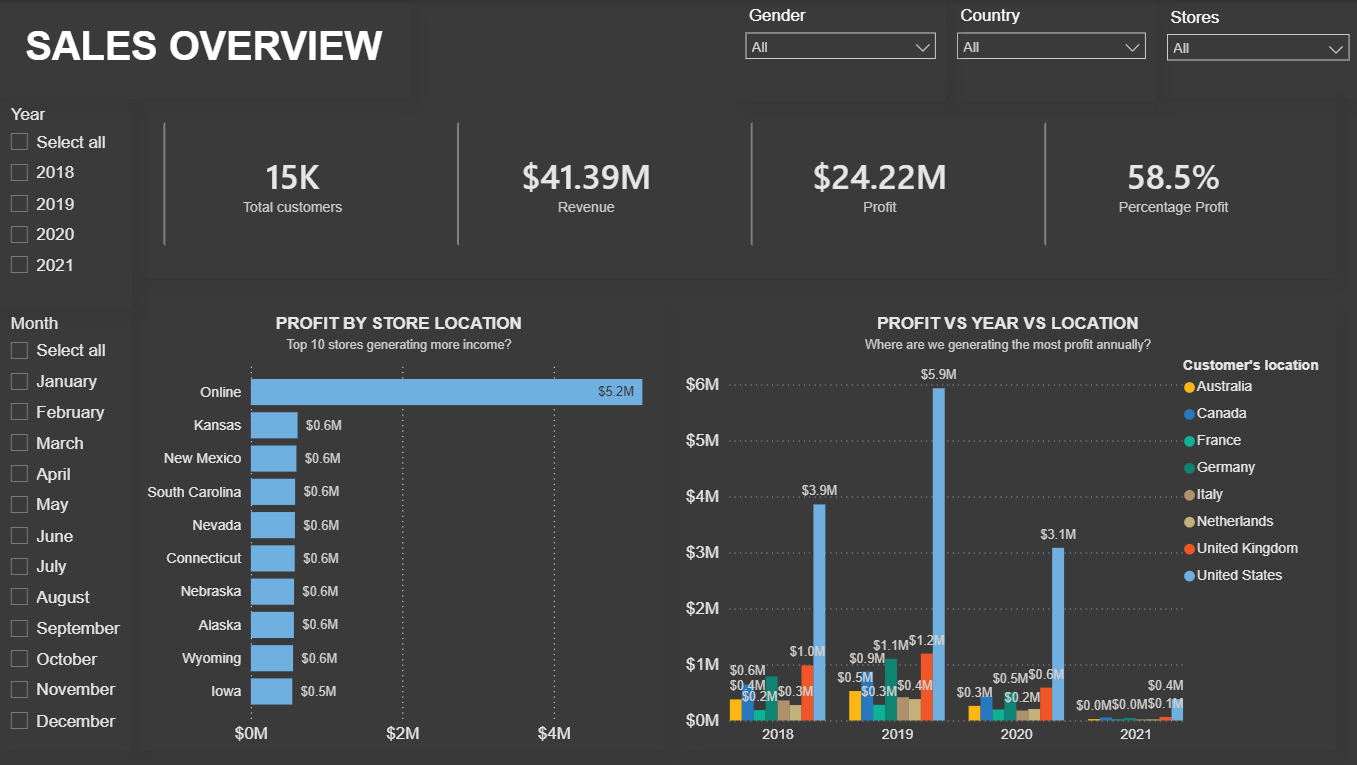

The dashboard page shown, as its layout file describes it:
{"tool":"powerbi","page":{"name":"OVERVIEW","canvas":[1280,720],"ordinal":0},"visuals":[{"type":"slicer","fields":{"Values":["Customers.Country"]},"box":[892.1,0,197.4,94.7],"z":1000,"group":"g1"},{"type":"slicer","fields":{"Values":["Sales.Order Date.Variation.Date Hierarchy.Year"]},"box":[0,93.6,127.5,197.2],"z":3000,"group":"g1"},{"type":"slicer","fields":{"Values":["Sales.Order Date.Variation.Date Hierarchy.Month"]},"box":[0,289.2,125.7,416.4],"z":5000,"group":"g1"},{"type":"slicer","fields":{"Values":["Stores.State"]},"box":[1089.5,1.6,191.1,91.6],"z":8000,"group":"g1"},{"type":"cardVisual","fields":{"Data":["_Measures.Total customers","_Measures.Revenue","_Measures.profit","_Measures.% profit"]},"box":[126.3,85.3,1132.1,176.8],"z":13000},{"type":"clusteredColumnChart","title":"PROFIT VS YEAR VS LOCATION","fields":{"Series":["Customers.Country"],"Y":["_Measures.profit"],"Category":["Sales.Order Date.Variation.Date Hierarchy.Year"]},"box":[641.1,289,617.4,416.8],"z":14000},{"type":"barChart","title":"PROFIT BY STORE LOCATION","fields":{"Y":["_Measures.profit"],"Category":["Inland stores.State"]},"box":[127.9,289,499,416.8],"z":15000},{"type":"textbox","box":[0,2,388.4,91.6],"z":17000},{"type":"slicer","fields":{"Values":["Customers.Gender"]},"box":[693.2,0,198.9,94.7],"z":18000,"group":"g1"},{"type":"group","id":"g1","title":"Sliders","box":[0,0,1280.5,705.6],"z":18001}]}

Visuals, with their boxes in screenshot pixels (x1, y1, x2, y2), scaled from the page's 1280x720 canvas onto the 1357x765 screenshot:
slicer - Customers.Country: [x1=946, y1=0, x2=1155, y2=101]
slicer - Sales.Order Date.Variation.Date Hierarchy.Year: [x1=0, y1=99, x2=135, y2=309]
slicer - Sales.Order Date.Variation.Date Hierarchy.Month: [x1=0, y1=307, x2=133, y2=750]
slicer - Stores.State: [x1=1155, y1=2, x2=1356, y2=99]
cardVisual - _Measures.Total customers x _Measures.Revenue: [x1=134, y1=91, x2=1334, y2=278]
"PROFIT VS YEAR VS LOCATION" clusteredColumnChart: [x1=680, y1=307, x2=1334, y2=750]
"PROFIT BY STORE LOCATION" barChart: [x1=136, y1=307, x2=665, y2=750]
textbox: [x1=0, y1=2, x2=412, y2=99]
slicer - Customers.Gender: [x1=735, y1=0, x2=946, y2=101]
"Sliders" group: [x1=0, y1=0, x2=1356, y2=750]
